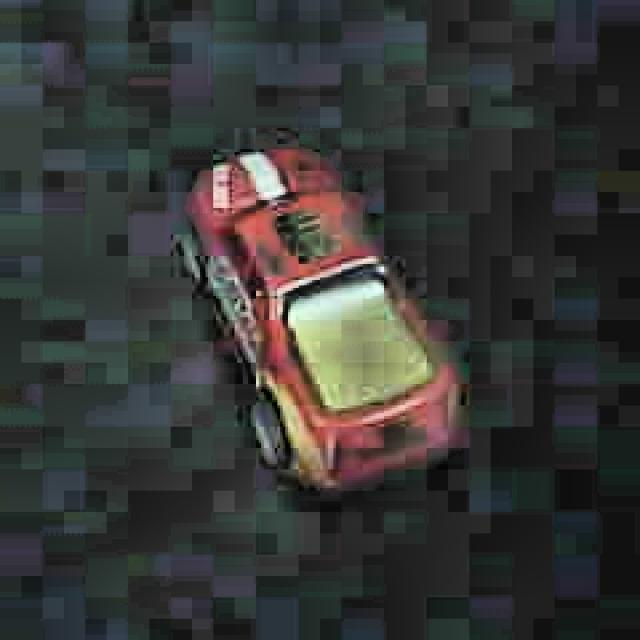car: (176, 138, 467, 498)
